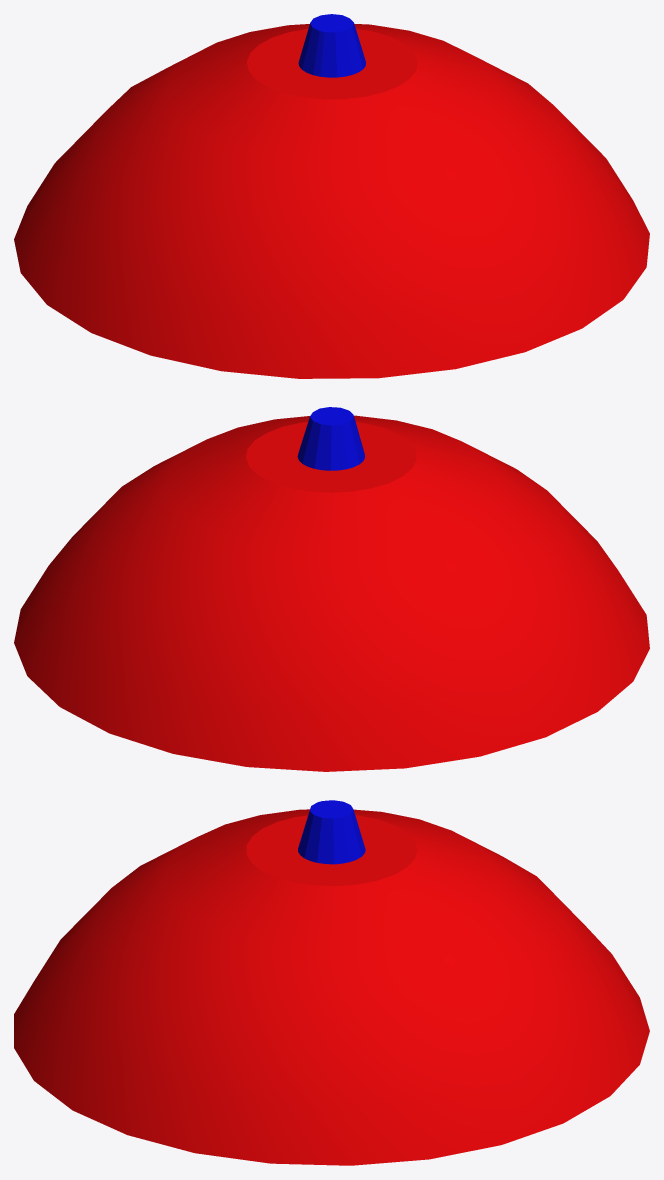
Rendered from UPDATED BAR LIGHT.fbx.
The picture shows the model from 3 angles, top to bottom: view 1: azimuth 30°, elevation 25°; view 2: azimuth 150°, elevation 25°; view 3: azimuth 270°, elevation 25°; orthographic projection.
Visible parts, largest first — view 1: BLUE; view 2: BLUE; view 3: BLUE.
Boxes of the visible parts, x1,y1,x2,y2 form: BLUE: (14, 14, 649, 378); BLUE: (14, 407, 649, 771); BLUE: (14, 800, 649, 1165).
Size of the model in its own units: 25.99 by 12.67 by 25.94.
